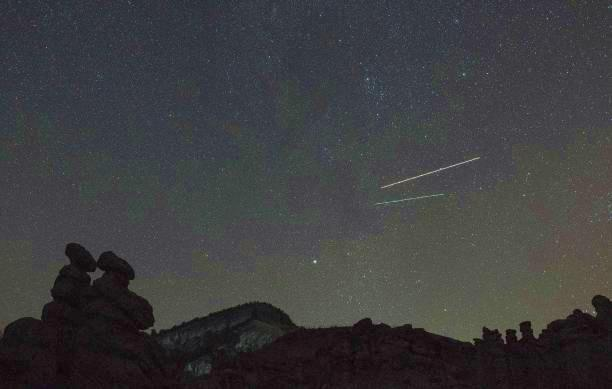meteorite: (387, 149, 487, 182), (377, 194, 448, 203)
